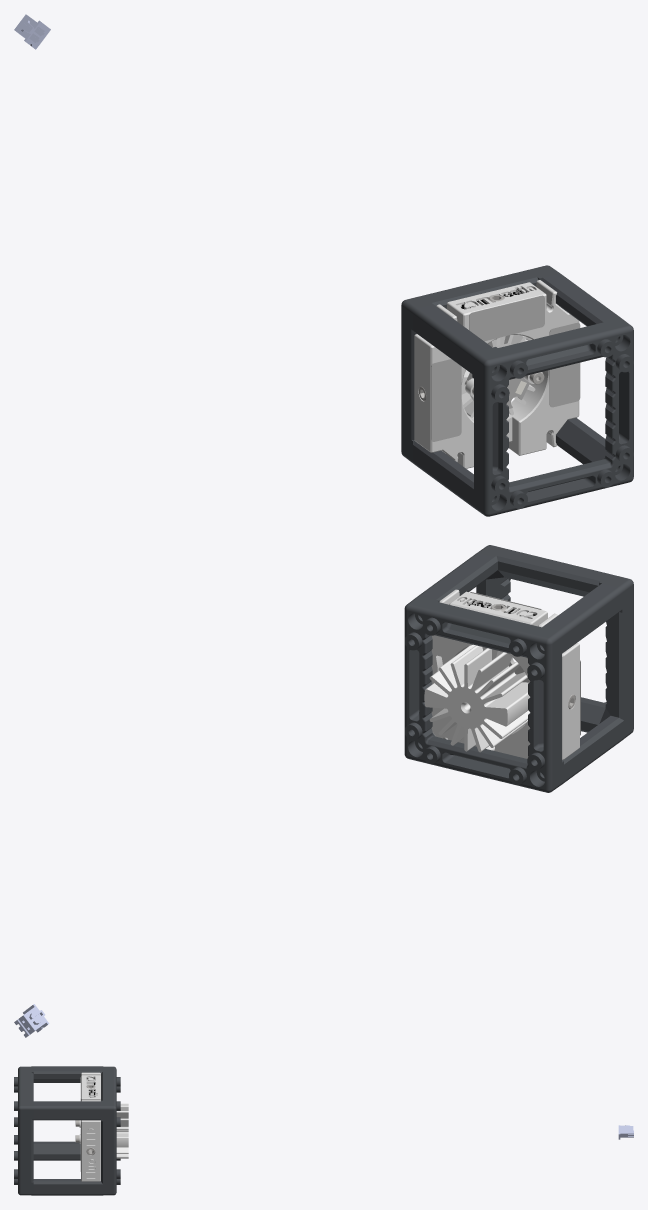
The model's file is ASS_-_2042_-_CUBFLULEDBLUNEWENE_-_V04_-_A.glb.
The picture shows the model from 3 angles, top to bottom: view 1: azimuth 30°, elevation 25°; view 2: azimuth 150°, elevation 25°; view 3: azimuth 270°, elevation 25°; orthographic projection. The views are drawn at different scales.
Visible parts, largest first — view 1: PRT - 1003 - CUBHLF111 - V04:2, PRT - 2043 - INSFLULED - V04:1, PRT - 1003 - CUBHLF111 - V04:1, PRT - 5001 - STKCAUHEA25x10:1, PRT - 5003 - STKCAUDNTCOV25x10:1, PRT - 5002 - STKCAULGTEXP25x10:1, BUY - JST - XH 2pin female connector:1, BUY - Cooling star D28:1; view 2: PRT - 1003 - CUBHLF111 - V04:1, PRT - 1003 - CUBHLF111 - V04:2, BUY - Cooling star D28:1, PRT - 2043 - INSFLULED - V04:1; view 3: PRT - 1003 - CUBHLF111 - V04:2, PRT - 1003 - CUBHLF111 - V04:1, PRT - 2043 - INSFLULED - V04:1, BUY - Cooling star D28:1, BUY - JST - XH 2pin female connector:1.
Part boxes in pixels (left/top/right/bottom): PRT - 1003 - CUBHLF111 - V04:2: left=413, top=273, right=633, bottom=516; PRT - 2043 - INSFLULED - V04:1: left=414, top=280, right=579, bottom=468; PRT - 1003 - CUBHLF111 - V04:1: left=401, top=265, right=617, bottom=469; PRT - 5001 - STKCAUHEA25x10:1: left=431, top=359, right=461, bottom=441; PRT - 5003 - STKCAUDNTCOV25x10:1: left=469, top=295, right=544, bottom=341; PRT - 5002 - STKCAULGTEXP25x10:1: left=549, top=322, right=580, bottom=407; BUY - JST - XH 2pin female connector:1: left=14, top=14, right=50, bottom=49; BUY - Cooling star D28:1: left=461, top=335, right=535, bottom=417; PRT - 1003 - CUBHLF111 - V04:1: left=404, top=583, right=622, bottom=792; PRT - 1003 - CUBHLF111 - V04:2: left=418, top=545, right=633, bottom=783; BUY - Cooling star D28:1: left=424, top=644, right=530, bottom=752; PRT - 2043 - INSFLULED - V04:1: left=431, top=589, right=579, bottom=759; PRT - 1003 - CUBHLF111 - V04:2: left=14, top=1066, right=100, bottom=1195; PRT - 1003 - CUBHLF111 - V04:1: left=33, top=1066, right=120, bottom=1195; PRT - 2043 - INSFLULED - V04:1: left=81, top=1072, right=100, bottom=1181; BUY - Cooling star D28:1: left=116, top=1103, right=128, bottom=1158; BUY - JST - XH 2pin female connector:1: left=618, top=1125, right=633, bottom=1139.
Bounding box in the file's own units: 49.8 × 49.8 × 313.
